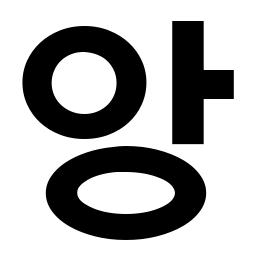Gaji: (159, 58, 224, 116)
